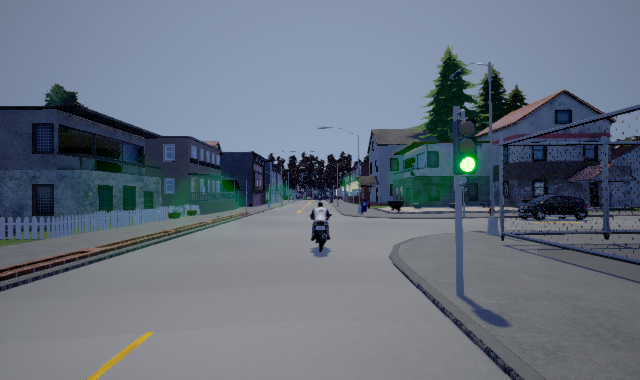motobike: (309, 200, 335, 253)
traffic_light: (452, 109, 478, 191)
vehicle: (518, 195, 588, 221)
